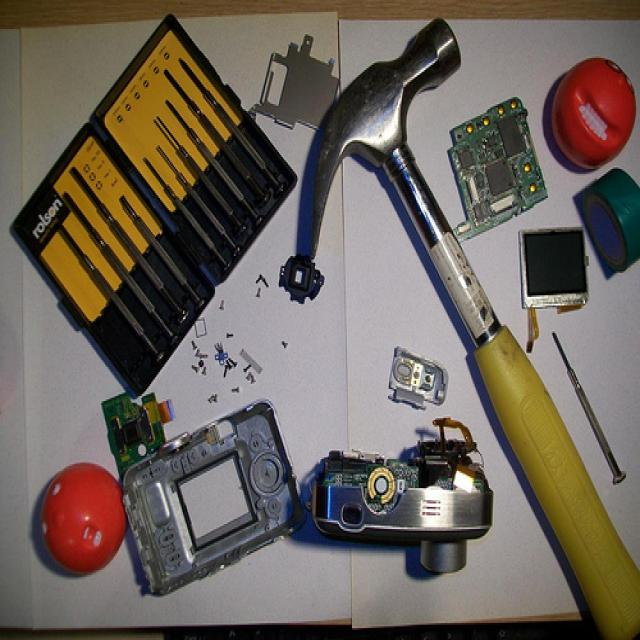hammer: (264, 15, 511, 400)
